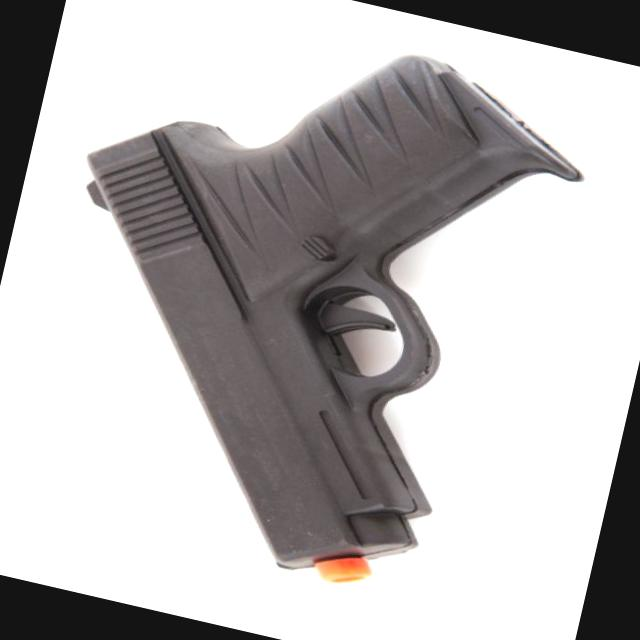handgun: (1, 0, 617, 632)
